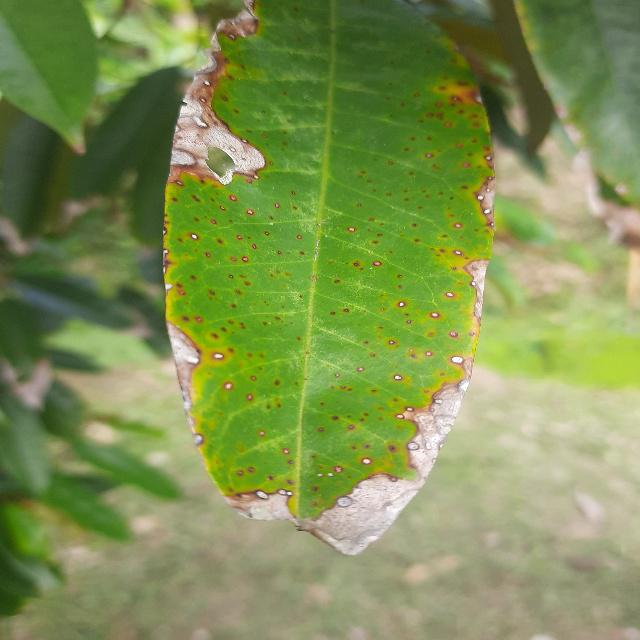Leaf Spot: (151, 0, 509, 558)
